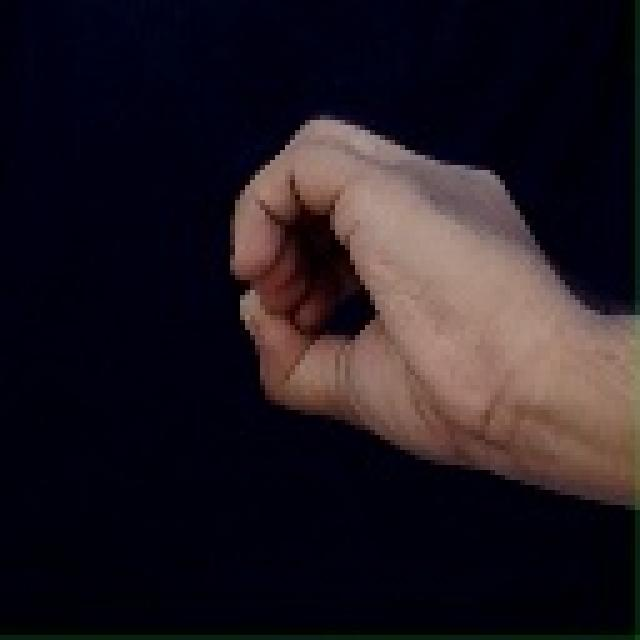Alphabet-O: (150, 109, 640, 524)
